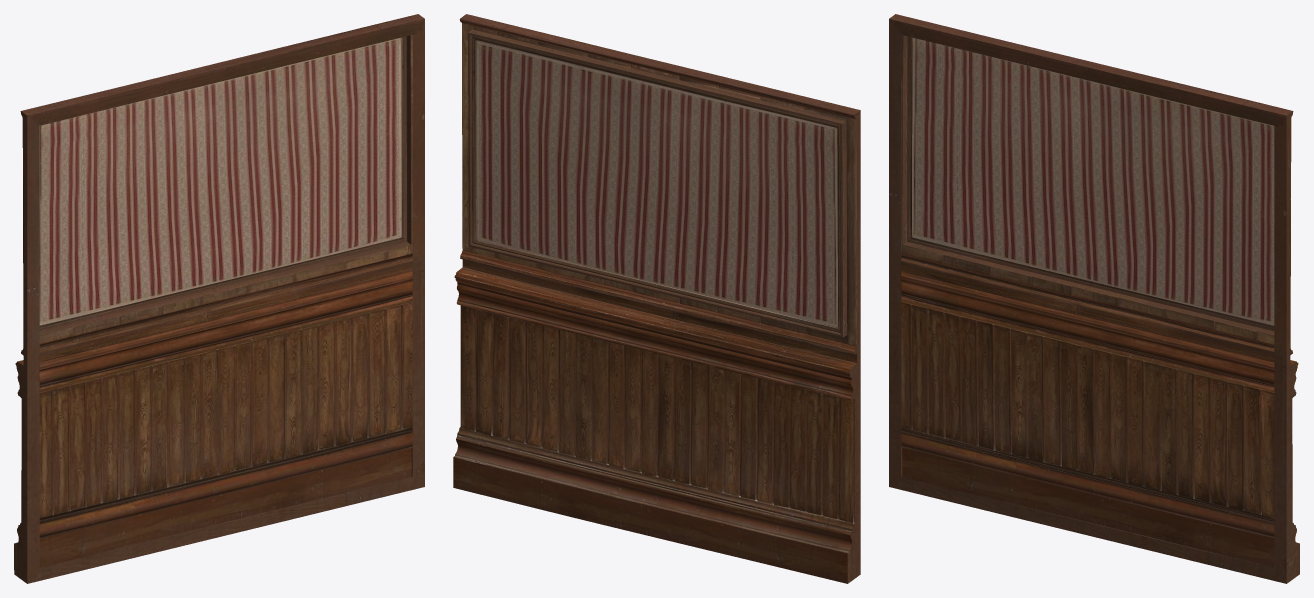
Rendered from panel-wood-wall.lod1.glb.
The picture shows the model from 3 angles, left to right: view 1: azimuth 30°, elevation 25°; view 2: azimuth 150°, elevation 25°; view 3: azimuth 330°, elevation 25°; orthographic projection.
Visible parts, largest first — view 1: panel-wood-wall; view 2: panel-wood-wall; view 3: panel-wood-wall.
Part boxes in pixels (box(x1,y1,x2,y2)): panel-wood-wall: box(14, 14, 424, 583); panel-wood-wall: box(453, 14, 860, 583); panel-wood-wall: box(889, 14, 1299, 583).
Size of the model in its own units: 2 by 2.25 by 0.1197.
1 material, 1 textured.
